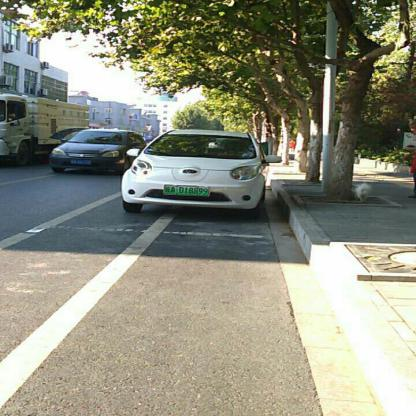lp: (164, 184, 209, 195)
